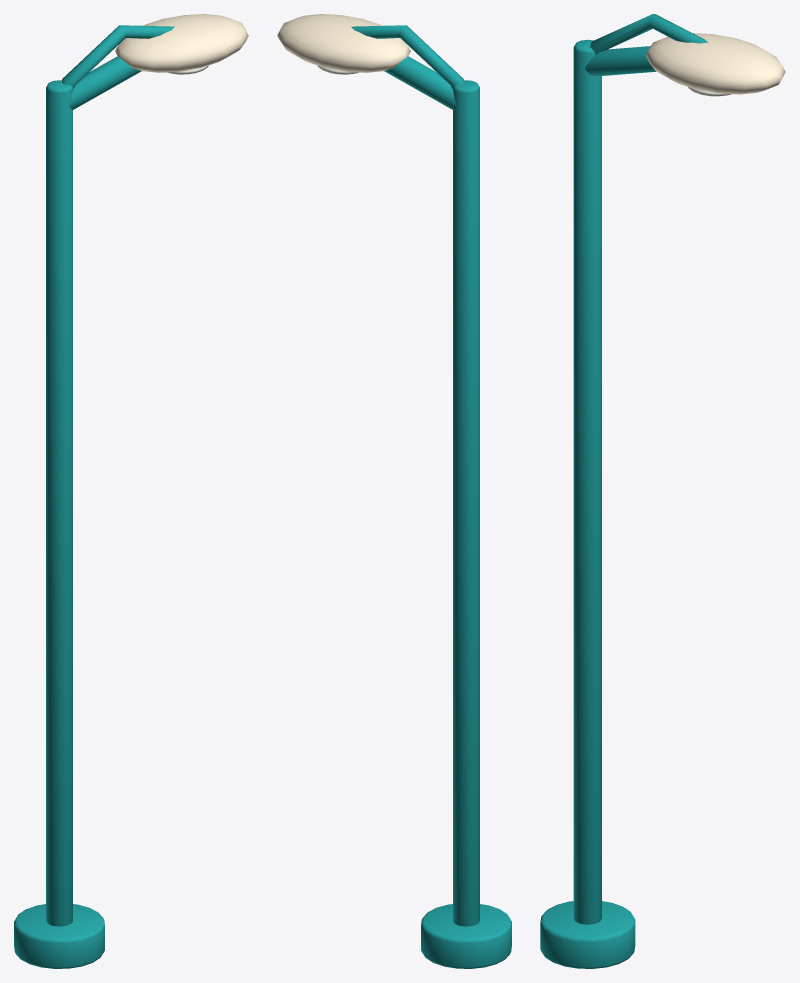
The model's file is Lamp.fbx.
The picture shows the model from 3 angles, left to right: view 1: azimuth 30°, elevation 25°; view 2: azimuth 150°, elevation 25°; view 3: azimuth 330°, elevation 25°; orthographic projection. The views are drawn at different scales.
Parts seen in each view (by area): view 1: GEO-Body; view 2: GEO-Body; view 3: GEO-Body.
Boxes of the visible parts, <box> form: GEO-Body: <box>14,14,248,968</box>; GEO-Body: <box>277,14,511,968</box>; GEO-Body: <box>540,14,785,968</box>.
Bounding box in the file's own units: 1.25 × 4.83 × 0.44.
